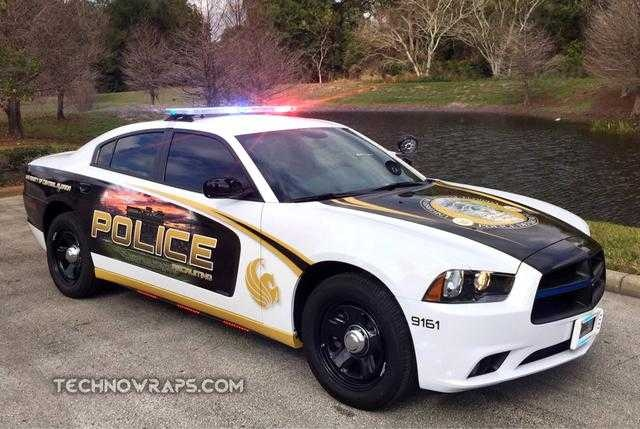Police Car: (30, 100, 617, 408)
